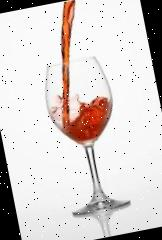glass: (38, 52, 137, 222)
